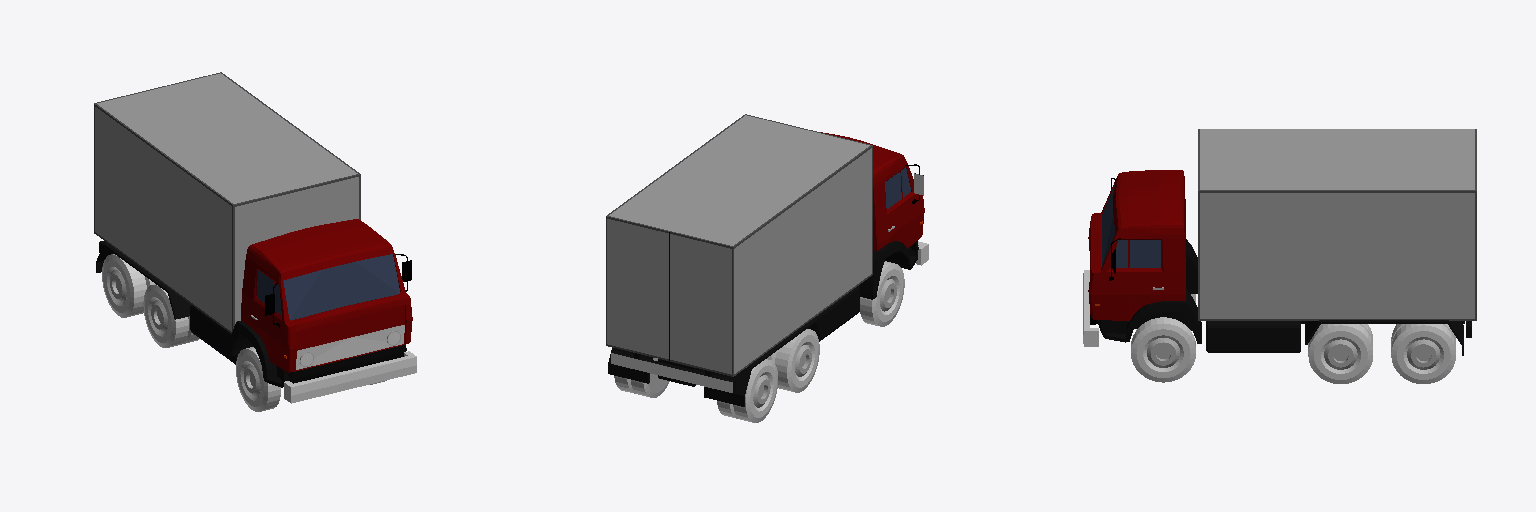
The model's file is Truck.obj.
The picture shows the model from 3 angles: view 1: azimuth 30°, elevation 25°; view 2: azimuth 150°, elevation 25°; view 3: azimuth 270°, elevation 25°; orthographic projection.
Parts seen in each view (by area): view 1: Cube.001, truck_Plane.001, glass_Plane.002, truck-textured-parts_Plane.001, truck-textured-parts_Plane.007, truck-textured-parts_Plane.012, truck-textured-parts_Plane.011, truck-textured-parts_Plane.010, truck.001_Plane.001, truck_Plane.017; view 2: Cube.001, truck_Plane.001, truck-textured-parts_Plane.011, truck-textured-parts_Plane.010, truck-textured-parts_Plane.008, truck_Plane.017, truck-textured-parts_Plane.012, truck.001_Plane.001, glass_Plane.002, truck_Plane.015; view 3: Cube.001, truck_Plane.001, truck.001_Plane.001, truck-textured-parts_Plane.002, truck-textured-parts_Plane.004, truck-textured-parts_Plane.003, glass_Plane.002, truck_Plane.015, truck_Plane.026, truck_Plane.027, truck_Plane.025, truck-textured-parts_Plane.001.
Part boxes in pixels (bbox=[...]): Cube.001: bbox=[94, 72, 360, 333]; truck_Plane.001: bbox=[229, 219, 412, 387]; glass_Plane.002: bbox=[257, 254, 399, 320]; truck-textured-parts_Plane.001: bbox=[284, 351, 416, 403]; truck-textured-parts_Plane.007: bbox=[296, 325, 404, 369]; truck-textured-parts_Plane.012: bbox=[102, 254, 146, 317]; truck-textured-parts_Plane.011: bbox=[143, 284, 188, 347]; truck-textured-parts_Plane.010: bbox=[236, 347, 280, 411]; truck.001_Plane.001: bbox=[190, 305, 237, 364]; truck_Plane.017: bbox=[96, 243, 190, 319]; Cube.001: bbox=[606, 114, 872, 376]; truck_Plane.001: bbox=[821, 132, 924, 299]; truck-textured-parts_Plane.011: bbox=[775, 329, 819, 392]; truck-textured-parts_Plane.010: bbox=[860, 261, 904, 326]; truck-textured-parts_Plane.008: bbox=[611, 353, 732, 392]; truck_Plane.017: bbox=[704, 319, 822, 406]; truck-textured-parts_Plane.012: bbox=[733, 359, 777, 422]; truck.001_Plane.001: bbox=[813, 286, 859, 341]; glass_Plane.002: bbox=[885, 167, 910, 208]; truck_Plane.015: bbox=[608, 348, 652, 383]; Cube.001: bbox=[1198, 129, 1476, 320]; truck_Plane.001: bbox=[1088, 170, 1201, 343]; truck.001_Plane.001: bbox=[1206, 321, 1300, 352]; truck-textured-parts_Plane.002: bbox=[1131, 317, 1195, 382]; truck-textured-parts_Plane.004: bbox=[1391, 324, 1455, 383]; truck-textured-parts_Plane.003: bbox=[1308, 324, 1372, 383]; glass_Plane.002: bbox=[1102, 185, 1160, 267]; truck_Plane.015: bbox=[1305, 320, 1463, 355]; truck_Plane.026: bbox=[1324, 339, 1357, 369]; truck_Plane.027: bbox=[1407, 339, 1440, 369]; truck_Plane.025: bbox=[1147, 338, 1179, 367]; truck-textured-parts_Plane.001: bbox=[1083, 270, 1098, 346].
Size of the model in its own units: 2.9 by 3.62 by 6.71.